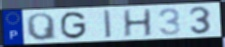3: (189, 5, 214, 36), (158, 7, 182, 36)
G: (59, 10, 88, 40)
H: (122, 8, 154, 38)
I: (103, 9, 114, 40)
Q: (25, 12, 59, 42)
